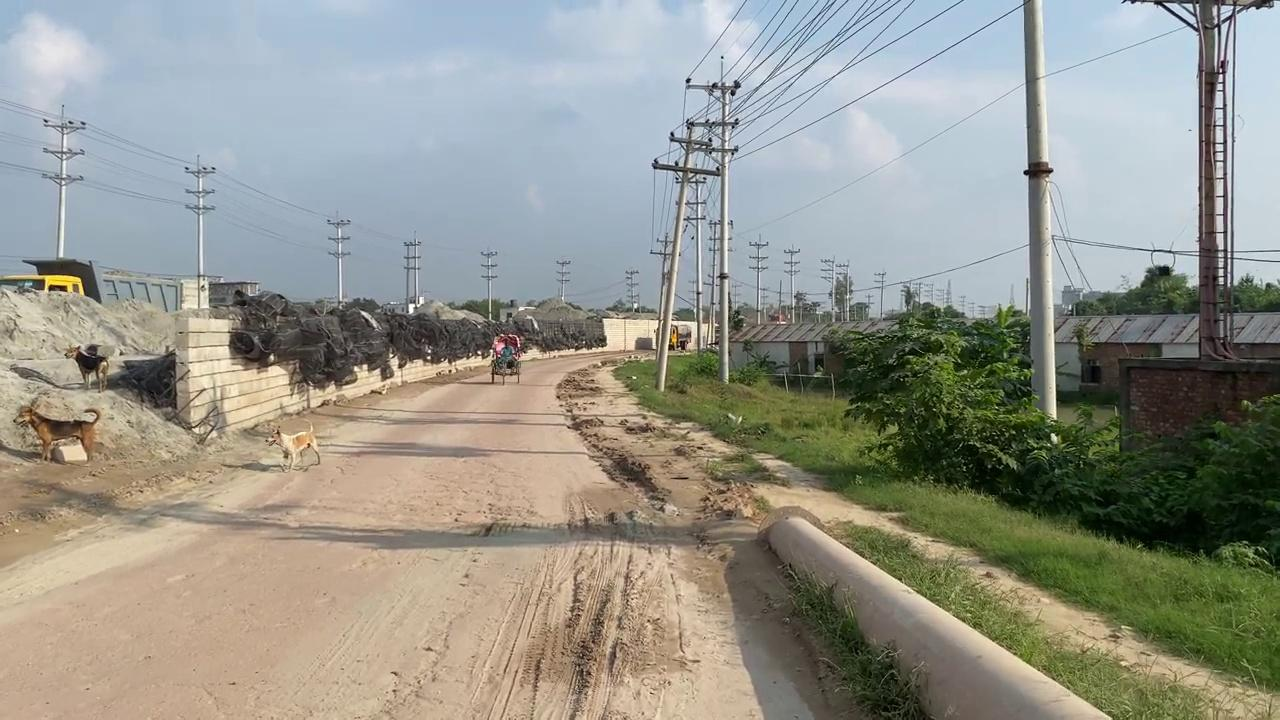Animal: (12, 403, 100, 462), (264, 420, 320, 472), (63, 343, 108, 392)
Fence: (173, 297, 605, 437)
Obstacle: (756, 505, 1113, 718), (51, 439, 88, 464)
Pole: (1022, 1, 1058, 438), (1193, 1, 1234, 361), (708, 86, 753, 385)
Railroad-crossing: (490, 351, 521, 385)
Rickshaw: (563, 356, 850, 500)
Tree: (0, 257, 260, 313), (0, 273, 85, 296), (654, 321, 710, 351), (669, 325, 689, 351)
